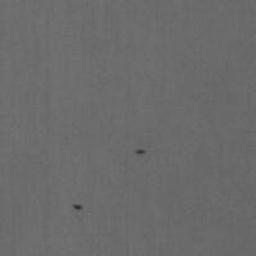Inclusion: (134, 148, 146, 155), (74, 205, 84, 211)
